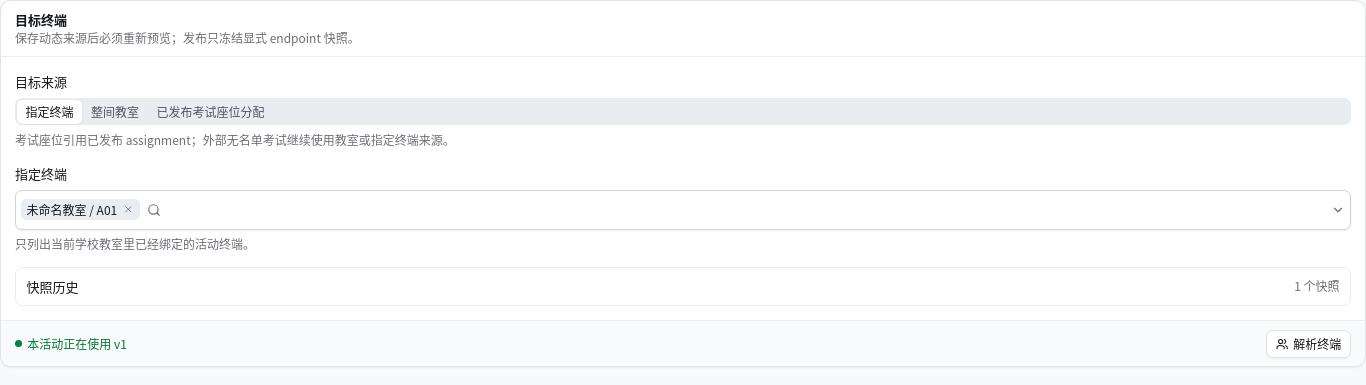
it: exam event target step › 清空后再次切回唯一的考试座位分配时会重新选中它
Step 1. Click the tab "已发布考试座位分配" → point(211, 112), box [148, 100, 273, 124]
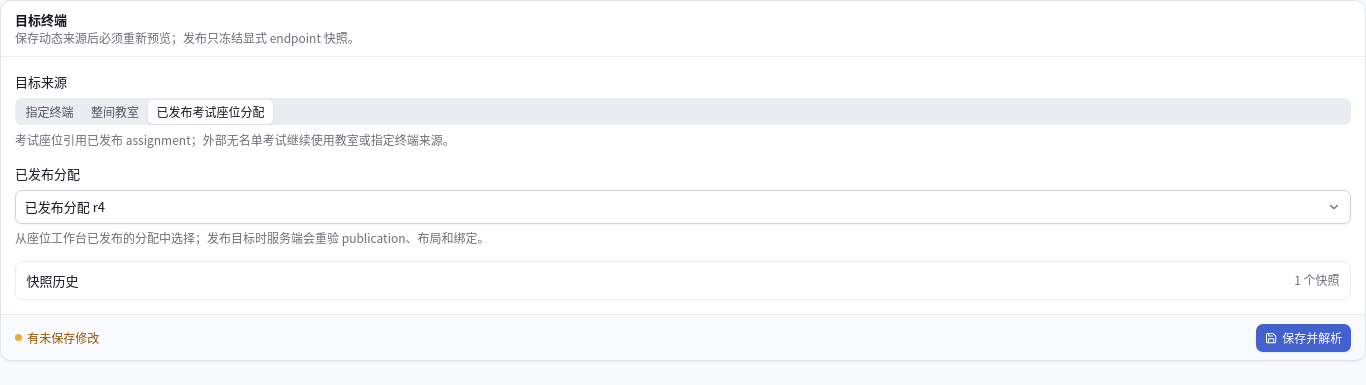
Expected: the dropdown labelled "已发布分配" reads "已发布分配 r4"
Step 2. Click the dropdown labelled "已发布分配" → point(65, 206), box [15, 190, 1351, 224]
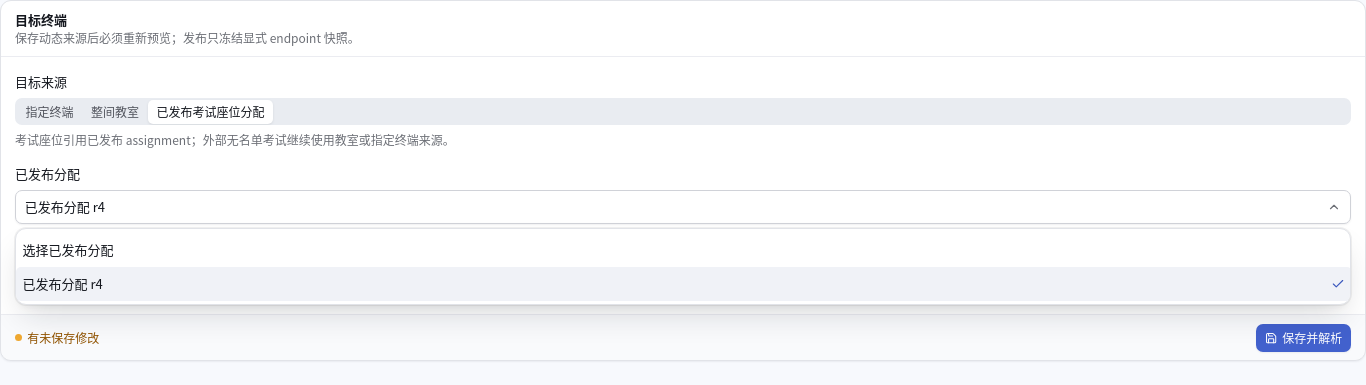
Step 3. Click the option "选择已发布分配" → point(68, 249), box [22, 240, 114, 259]
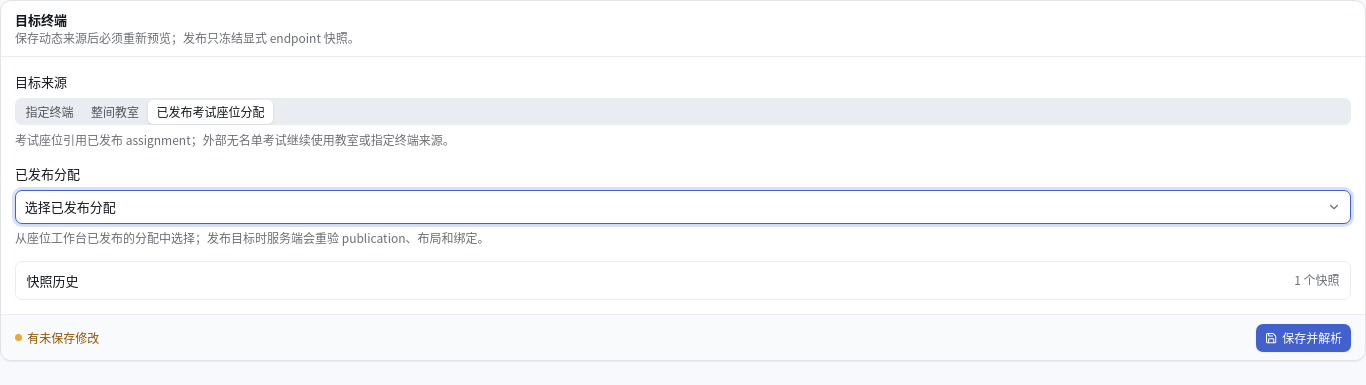
Expected: the dropdown labelled "已发布分配" reads "选择已发布分配", [15, 190, 1351, 224]
Step 4. Click the tab "指定终端" → point(50, 112), box [17, 100, 82, 124]
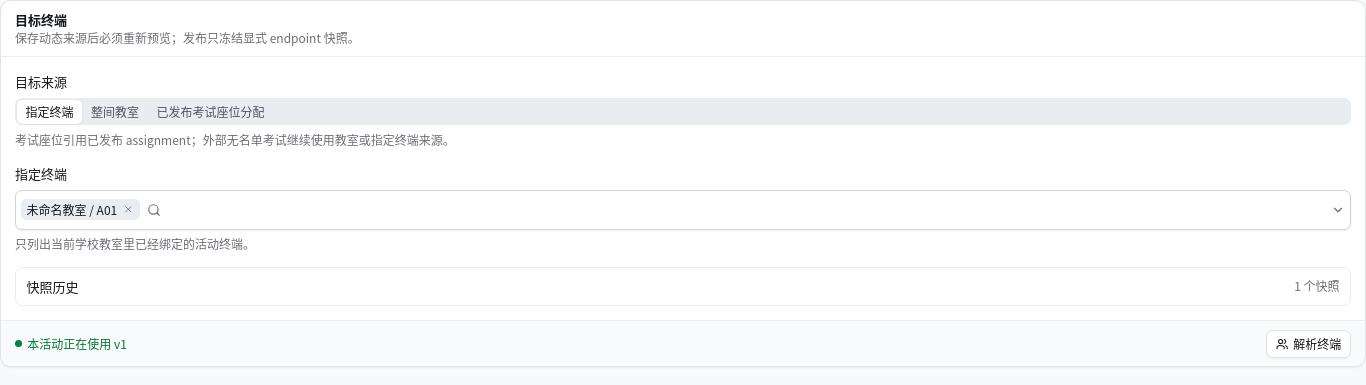
Step 5. Click the tab "已发布考试座位分配" → point(211, 112), box [148, 100, 273, 124]
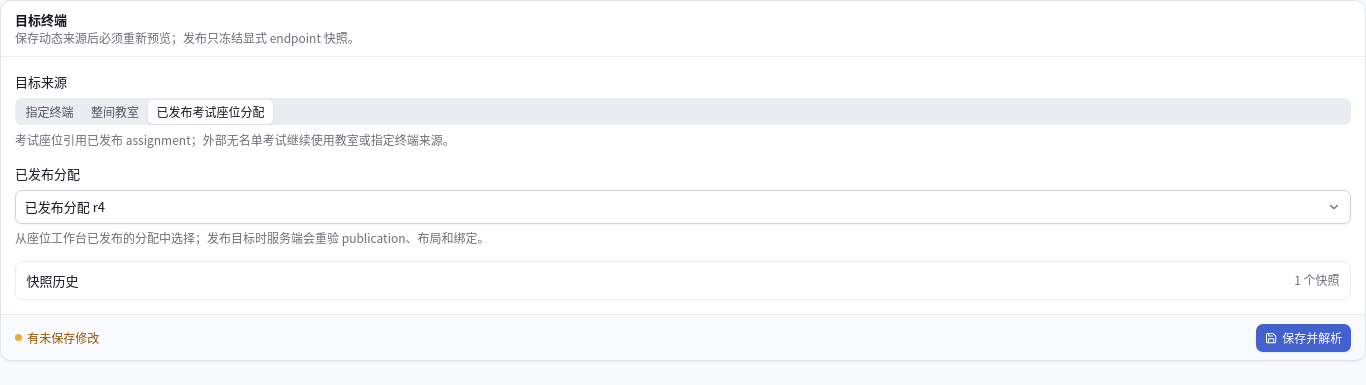
Expected: the dropdown labelled "已发布分配" reads "已发布分配 r4", [15, 190, 1351, 224]
